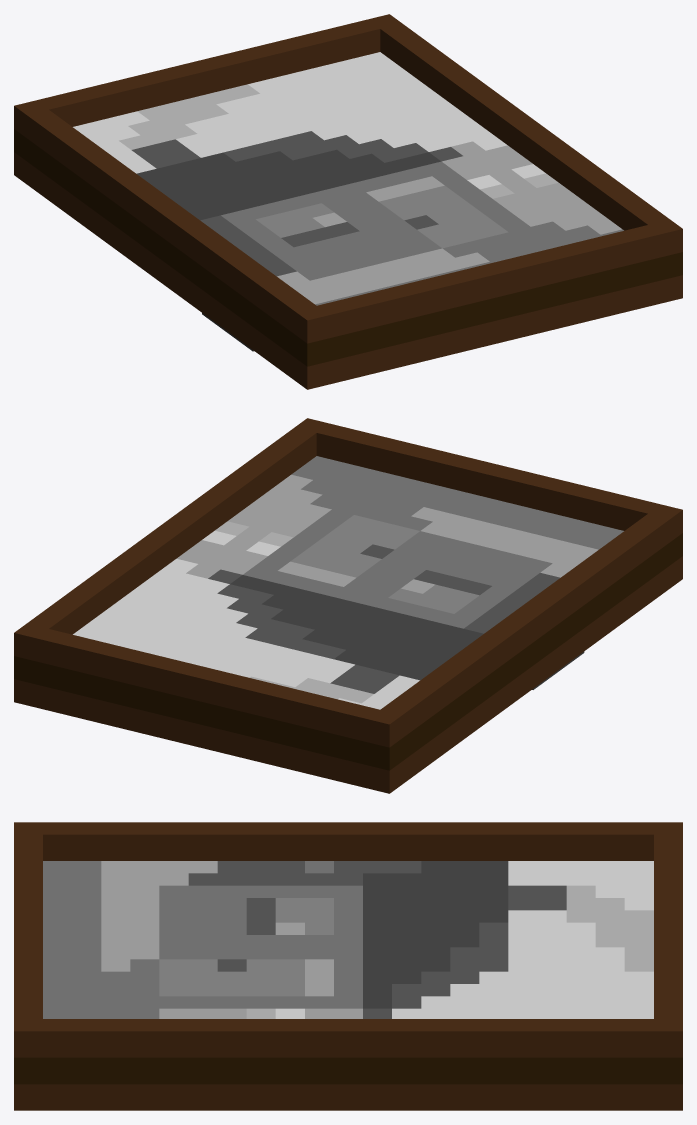
Rendered from photo.fbx.
3 renders of one model, top to bottom at view 1: azimuth 30°, elevation 25°; view 2: azimuth 150°, elevation 25°; view 3: azimuth 270°, elevation 25°, orthographic. The views are drawn at different scales.
Parts seen in each view (by area): view 1: imagetostl_mesh0; view 2: imagetostl_mesh0; view 3: imagetostl_mesh0.
Boxes of the visible parts, x1=… form: imagetostl_mesh0: x1=14, y1=14, x2=682, y2=389; imagetostl_mesh0: x1=14, y1=418, x2=682, y2=793; imagetostl_mesh0: x1=14, y1=822, x2=682, y2=1110.
Bounding box in the file's own units: 2.55 × 0.6 × 3.45.
